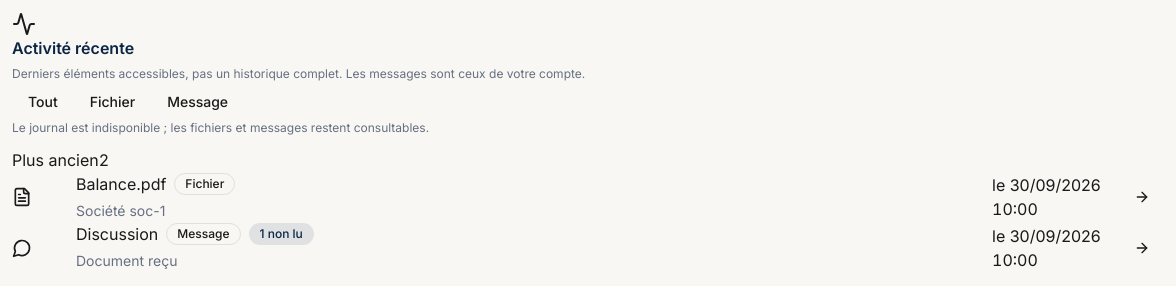
Test: Daily Workspace UI contract › activity filters loaded sources while preserving partial failure and role boundaries
Expected: the message shows "journal est indisponible", left=12, top=120, right=429, bottom=134
Click the button "Fichier": [112, 102] box left=74, top=84, right=151, bottom=120
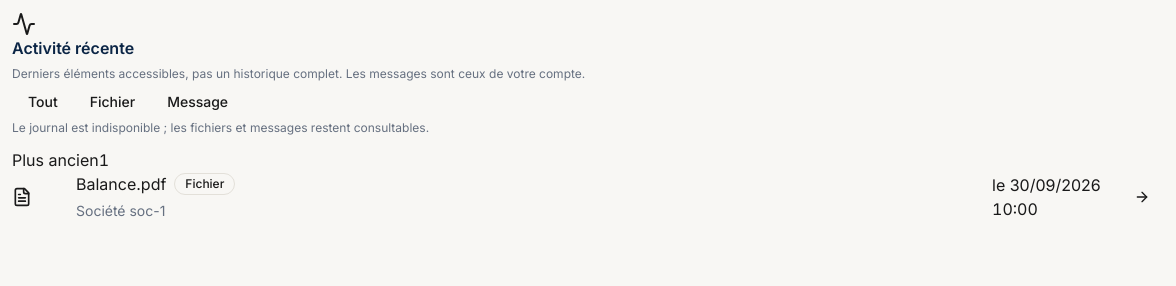
Expected: the text "Balance.pdf" is shown, left=76, top=172, right=166, bottom=196
Now the text "Discussion" is gone
Click the button "Message": [198, 102] box left=151, top=84, right=244, bottom=120
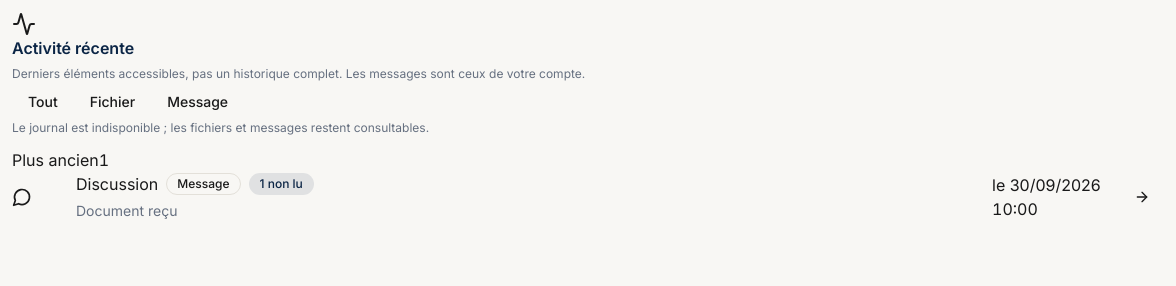
Now the text "Discussion" is shown, box left=76, top=172, right=158, bottom=196
Now the text "Balance.pdf" is gone
